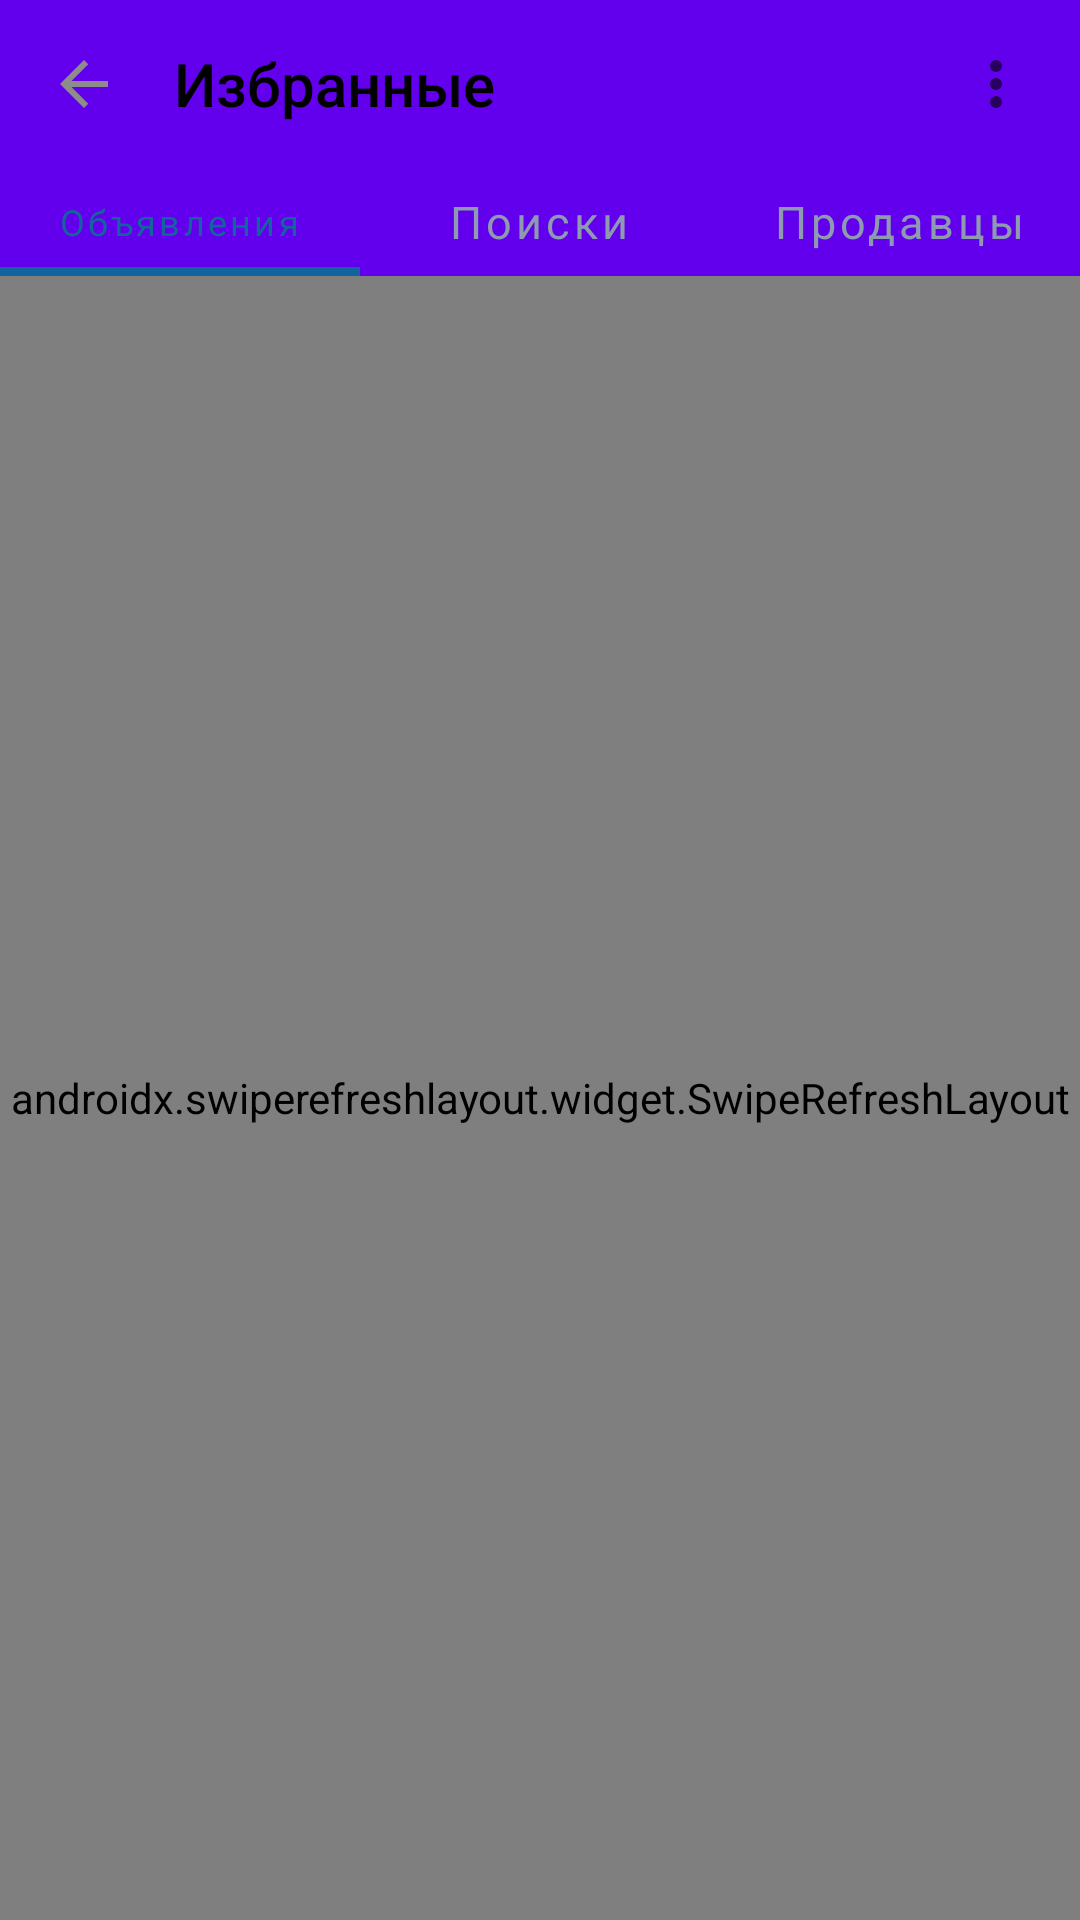

Icons on this 1080w x 1920h Android screen, each with the point to tap as [x,y]:
vicon arrow back: [84,84]
vicon more vert: [996,84]
